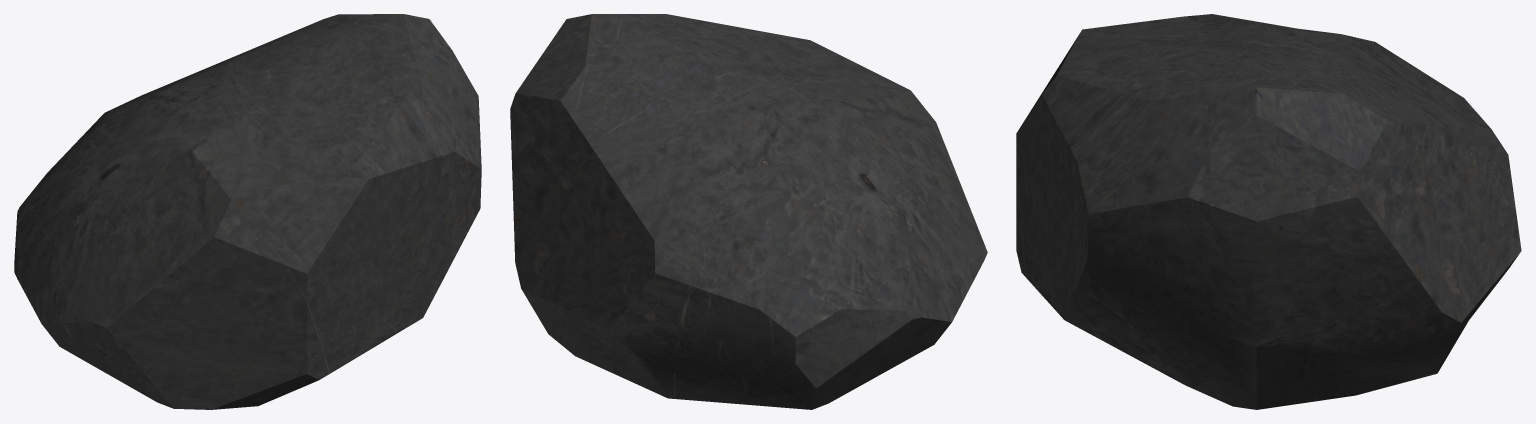
The model's file is Rock6.fbx.
3 renders of one model, left to right at view 1: azimuth 30°, elevation 25°; view 2: azimuth 150°, elevation 25°; view 3: azimuth 270°, elevation 25°, orthographic. The views are drawn at different scales.
Visible parts, largest first — view 1: Rock6; view 2: Rock6; view 3: Rock6.
Part boxes in pixels (x1,y1,x2,y2): Rock6: [14, 14, 481, 409]; Rock6: [510, 14, 987, 409]; Rock6: [1016, 14, 1521, 409].
Size of the model in its own units: 345 by 222 by 307.
Materials: 1 (1 with a texture image).
